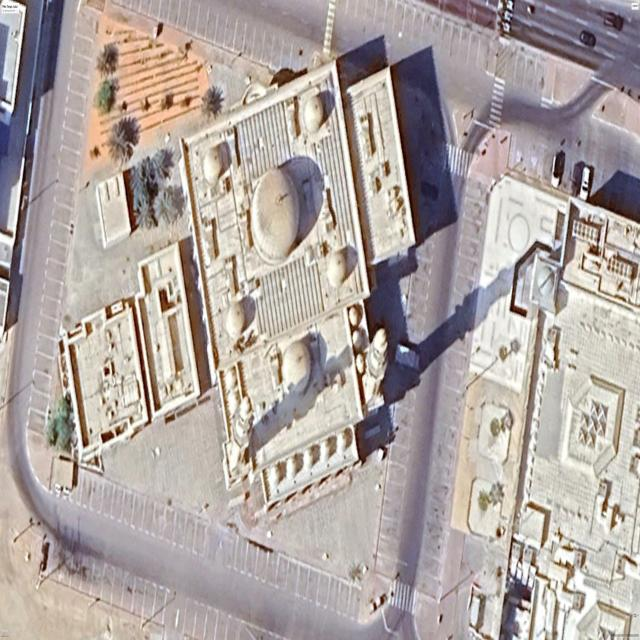mosque: (181, 61, 415, 517)
